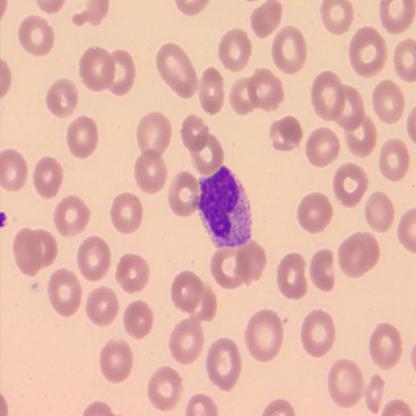Metamyelocyte: (192, 160, 256, 252)
